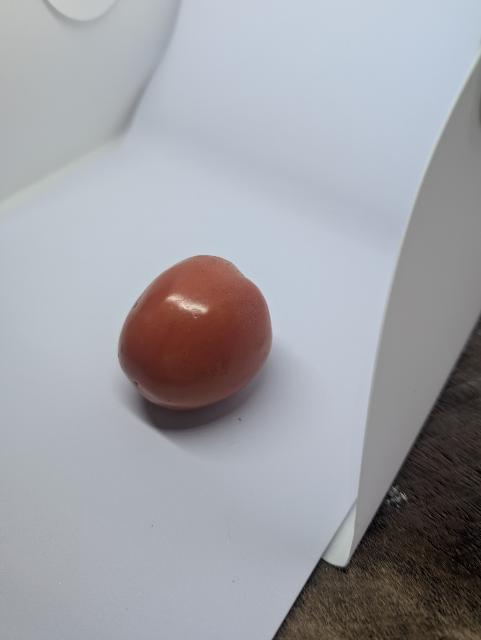red: (85, 239, 321, 451)
